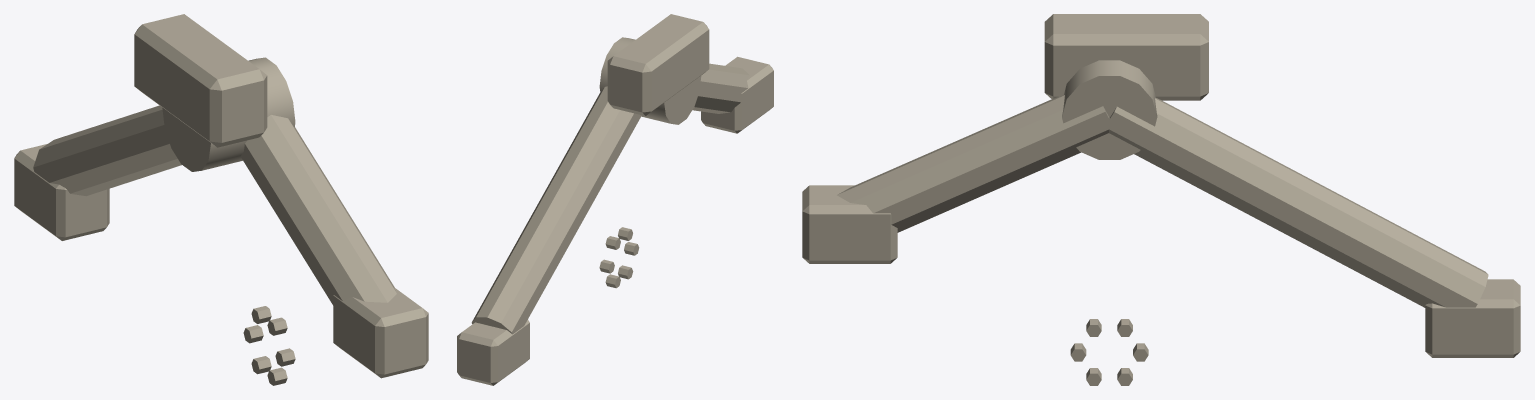
Rendered from rb_rocker_arm.glb.
3 views of the same model, side by side, from view 1: azimuth 30°, elevation 25°; view 2: azimuth 150°, elevation 25°; view 3: azimuth 270°, elevation 25° (orthographic). The views are drawn at different scales.
Parts seen in each view (by area): view 1: rb_rocker_arm; view 2: rb_rocker_arm; view 3: rb_rocker_arm.
Part boxes in pixels (x1=…): rb_rocker_arm: x1=14, y1=14, x2=428, y2=385; rb_rocker_arm: x1=457, y1=14, x2=773, y2=385; rb_rocker_arm: x1=802, y1=14, x2=1520, y2=385.
Size of the model in its own units: 0.1235 by 0.4215 by 0.83.
